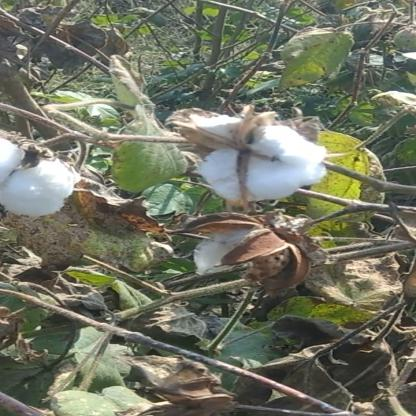cotton_ready: (187, 100, 331, 230)
